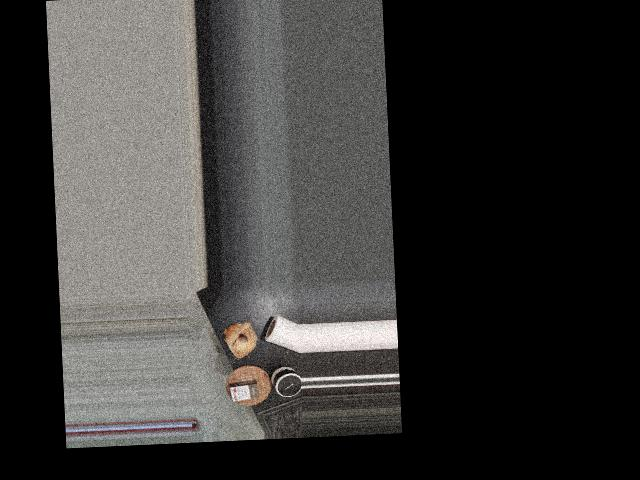onion: (221, 319, 259, 360)
